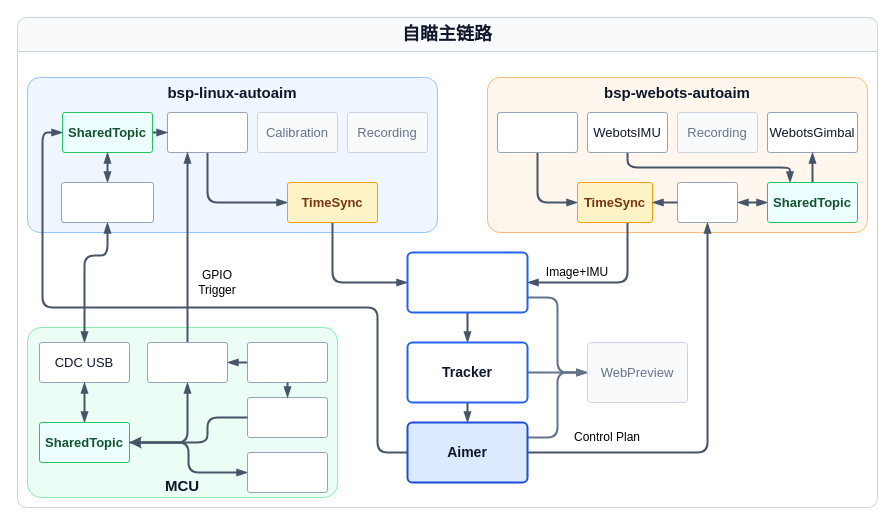
This 895x525 diagram has some shape labels left out. The shapes that lost their labels are listed below. From the top down, each one's centre as x and y in pixels, then its label:
At point (207, 132): "HikCamera".
At point (537, 132): "WebotsCam".
At point (107, 202): "LinuxUart".
At point (707, 202): "PipeUart".
At point (467, 282): "Detector".
At point (187, 362): "CameraSync".
At point (287, 362): "BMI088".
At point (287, 417): "AHRS".
At point (287, 472): "Gimbal".
